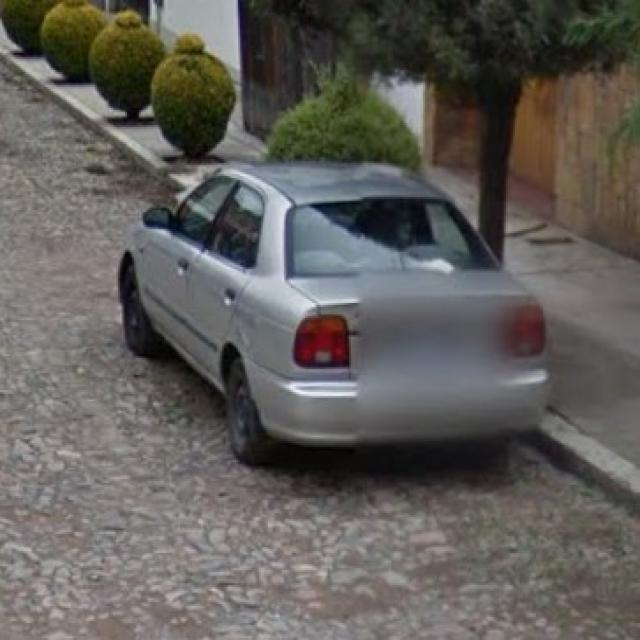cars: (108, 165, 564, 475)
